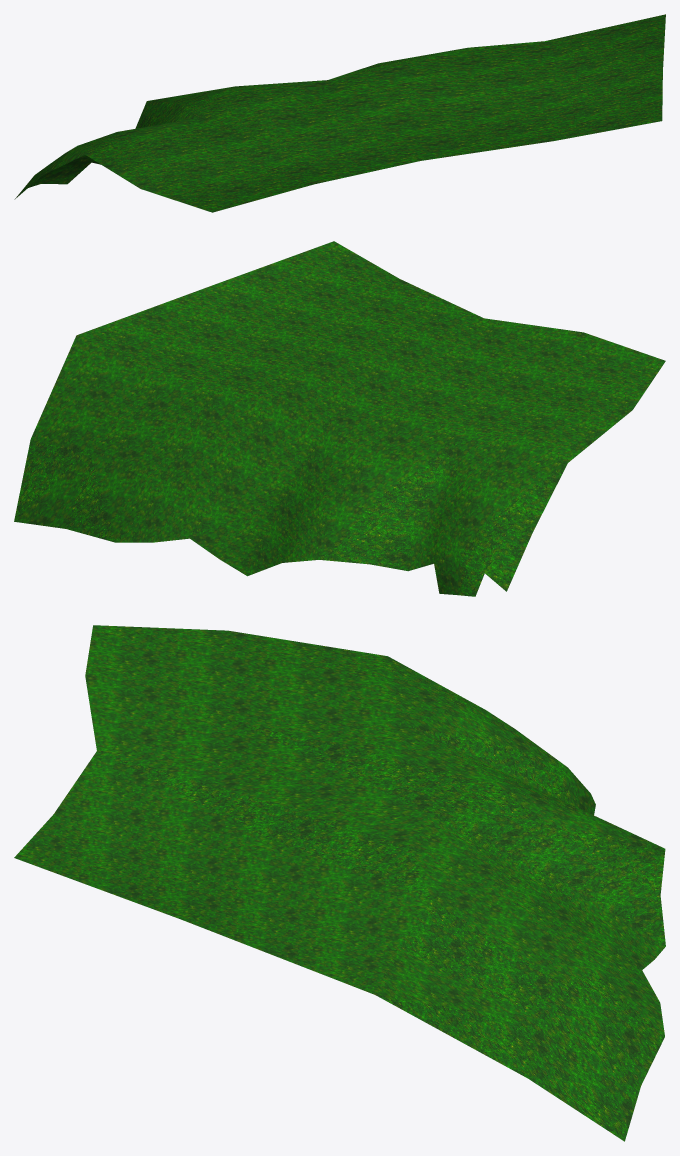
File: HTOWN01_PS30.fbx
3 renders of one model, top to bottom at view 1: azimuth 30°, elevation 25°; view 2: azimuth 150°, elevation 25°; view 3: azimuth 270°, elevation 25°, orthographic. The views are drawn at different scales.
Parts seen in each view (by area): view 1: HTOWN01_PS30; view 2: HTOWN01_PS30; view 3: HTOWN01_PS30.
Part boxes in pixels (x1,y1,x2,y2): HTOWN01_PS30: (14, 14, 665, 212); HTOWN01_PS30: (14, 241, 665, 596); HTOWN01_PS30: (14, 625, 665, 1141).
Size of the model in its own units: 222358 by 62649 by 175311.
Materials: 2 (2 with a texture image).
